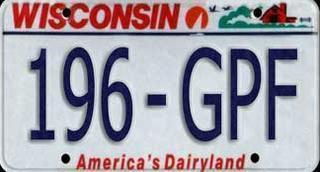placa de veiculo: (8, 1, 311, 172)
